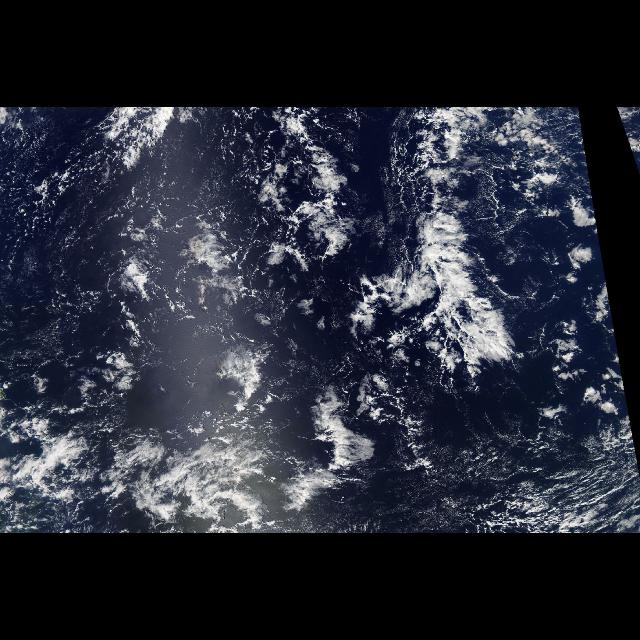Fish: (260, 108, 562, 398), (10, 409, 364, 529)
Flower: (536, 158, 624, 432)
Gravel: (138, 122, 338, 348), (430, 438, 640, 534)
Sugar: (2, 110, 244, 406), (442, 404, 640, 534)
